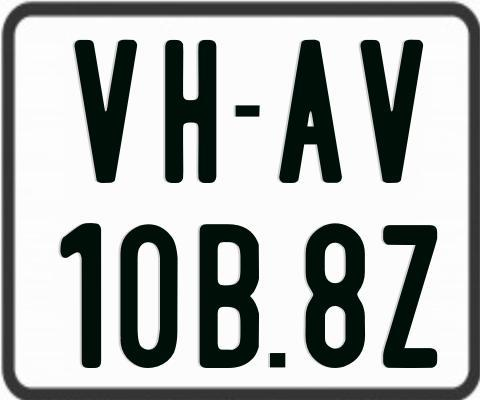0: (120, 222, 181, 372)
1: (57, 221, 104, 372)
8: (304, 220, 367, 370)
A: (278, 38, 344, 182)
B: (197, 224, 260, 370)
H: (163, 40, 220, 184)
V: (74, 40, 143, 188), (358, 38, 426, 183)
Z: (380, 225, 435, 371)
